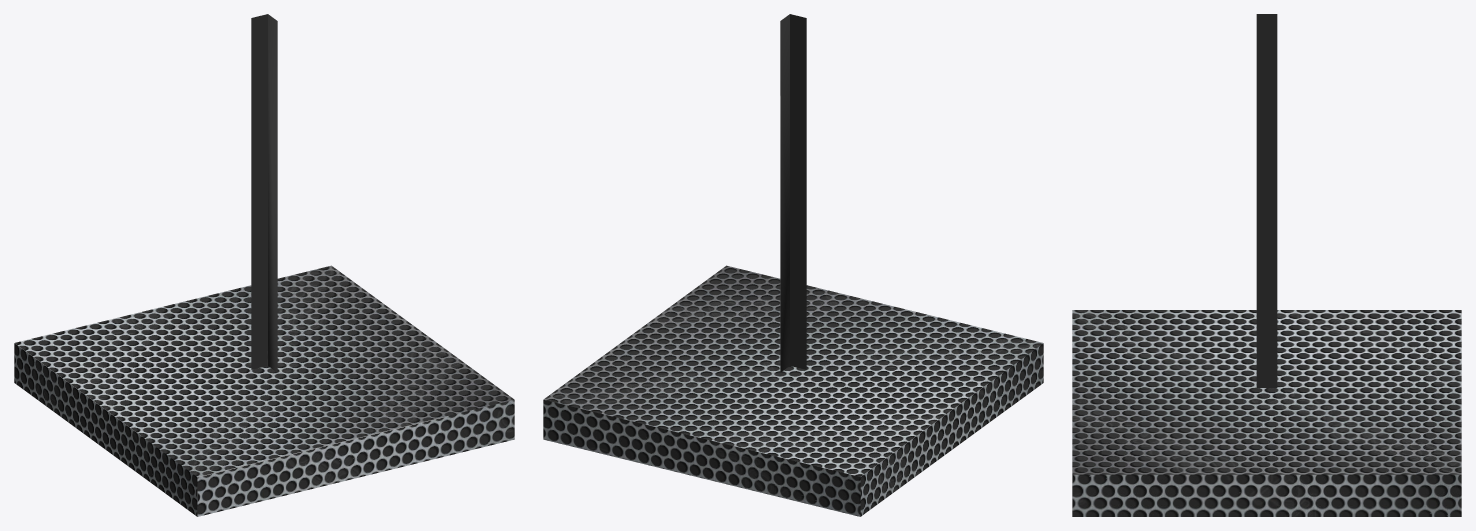
Rendered from LampSmall.fbx.
3 renders of one model, left to right at view 1: azimuth 30°, elevation 25°; view 2: azimuth 150°, elevation 25°; view 3: azimuth 270°, elevation 25°, orthographic. The views are drawn at different scales.
Parts seen in each view (by area): view 1: Cube.001; view 2: Cube.001; view 3: Cube.001.
Part boxes in pixels (x1=…): Cube.001: x1=14, y1=14, x2=514, y2=516; Cube.001: x1=543, y1=14, x2=1043, y2=516; Cube.001: x1=1072, y1=14, x2=1461, y2=516.
Size of the model in its own units: 34.97 by 41.25 by 34.97.
Materials: 2 (1 with a texture image).
